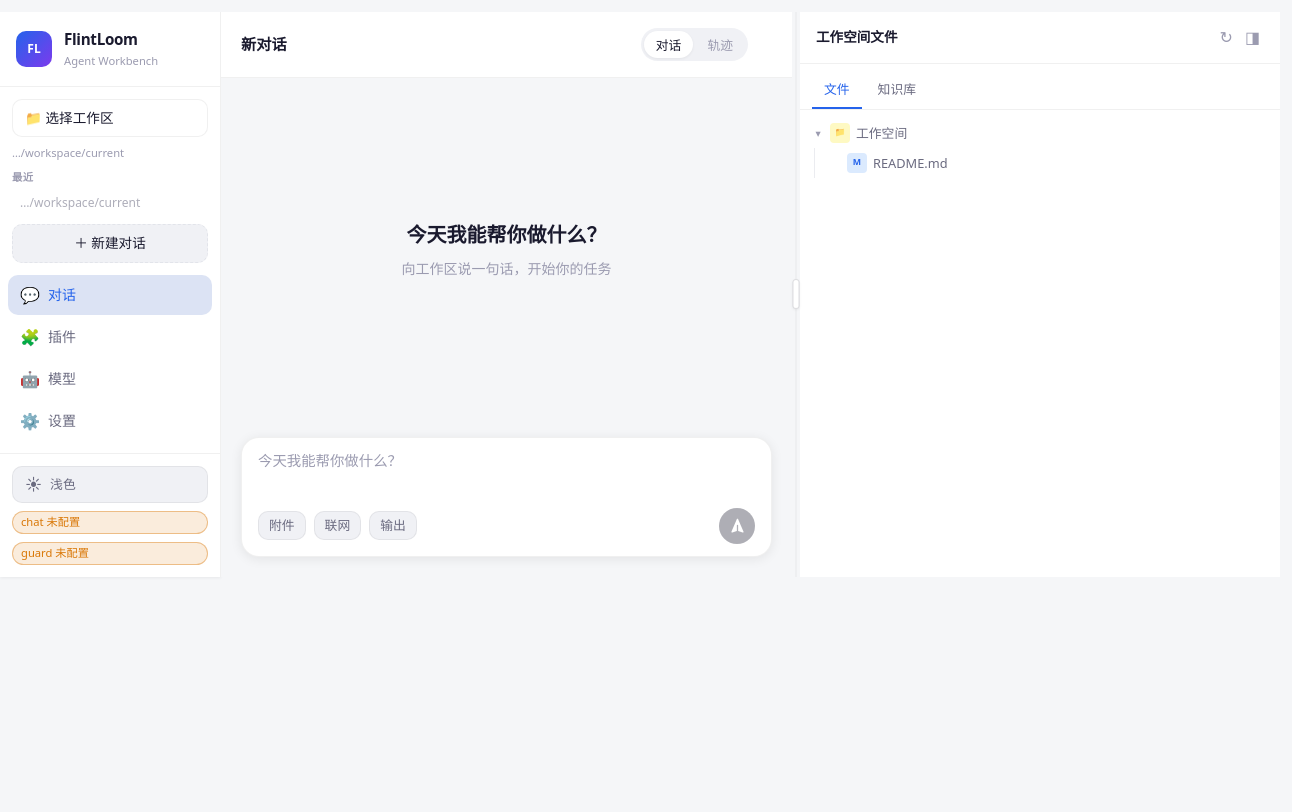
Test case: App › does not auto-open file preview and docks it beside the tree
Click the list item with class "file-label": [910, 163] box [821,148,1276,178]
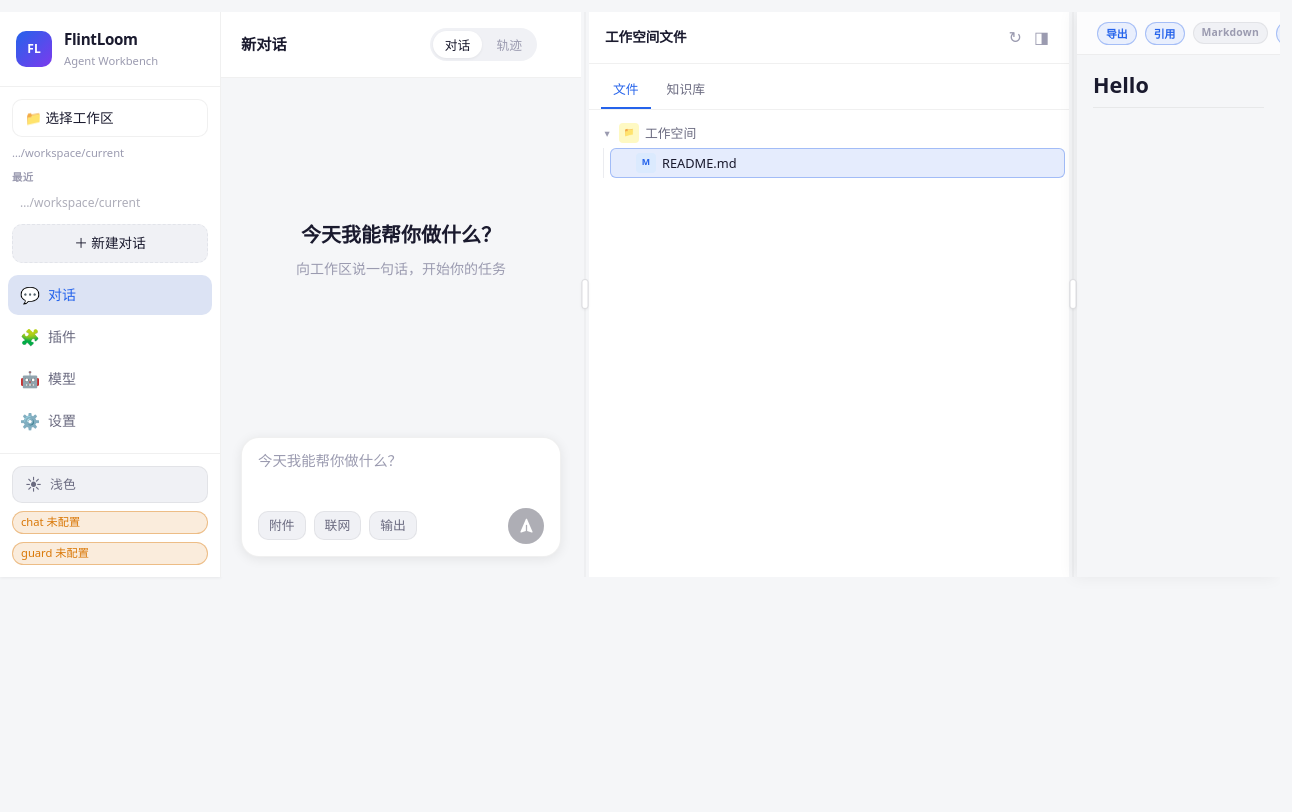
Expected: the element with class "file-tree-surface" is shown, [589,110,1069,577]
Expected: the element with class "file-preview-surface" is shown, [1077,12,1280,577]
Expected: the element with class "file-pane-shell--previewing" is shown, [589,12,1280,577]
